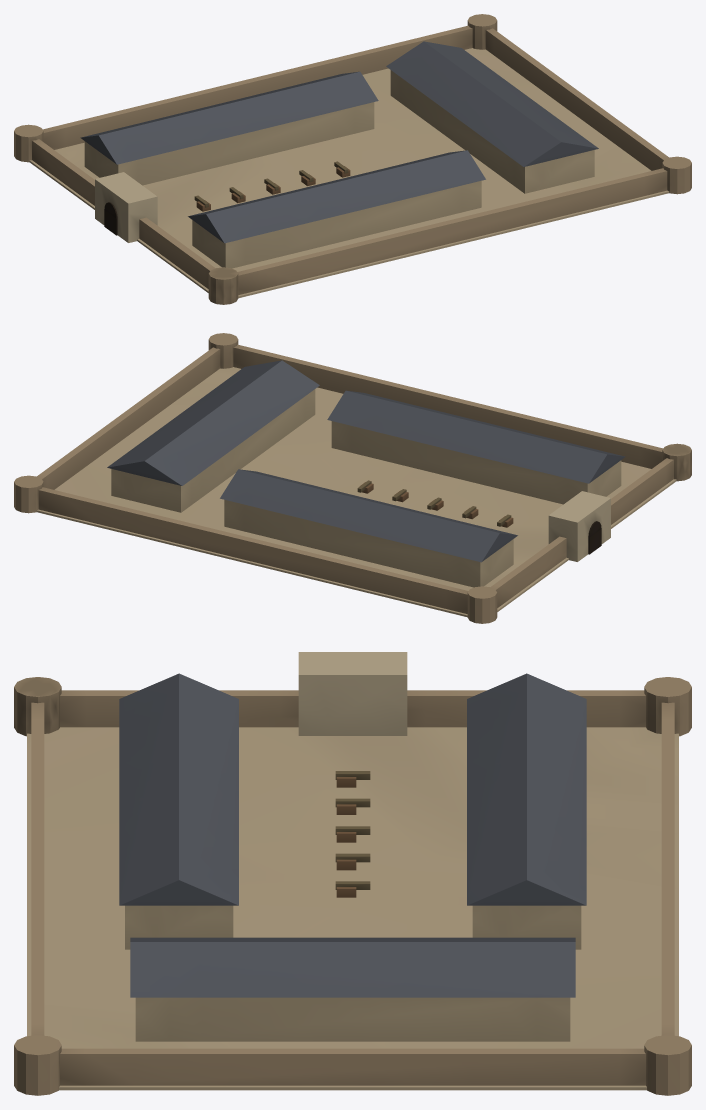
File: magazine.glb
The picture shows the model from 3 angles, top to bottom: view 1: azimuth 30°, elevation 25°; view 2: azimuth 150°, elevation 25°; view 3: azimuth 270°, elevation 25°; orthographic projection. The views are drawn at different scales.
Visible parts, largest first — view 1: p0_walls, p2_roofs, p1_stores; view 2: p0_walls, p2_roofs, p1_stores; view 3: p0_walls, p2_roofs, p1_stores.
Part boxes in pixels (box(x1,y1,x2,y2)): p0_walls: box(14, 14, 691, 304); p2_roofs: box(80, 41, 598, 243); p1_stores: box(84, 70, 594, 268); p0_walls: box(14, 333, 691, 623); p2_roofs: box(107, 360, 625, 562); p1_stores: box(111, 389, 621, 587); p0_walls: box(14, 652, 691, 1095); p2_roofs: box(119, 673, 586, 997); p1_stores: box(125, 771, 581, 1041).
Bounding box in the file's own units: 82.9 × 7.6 × 62.4.
